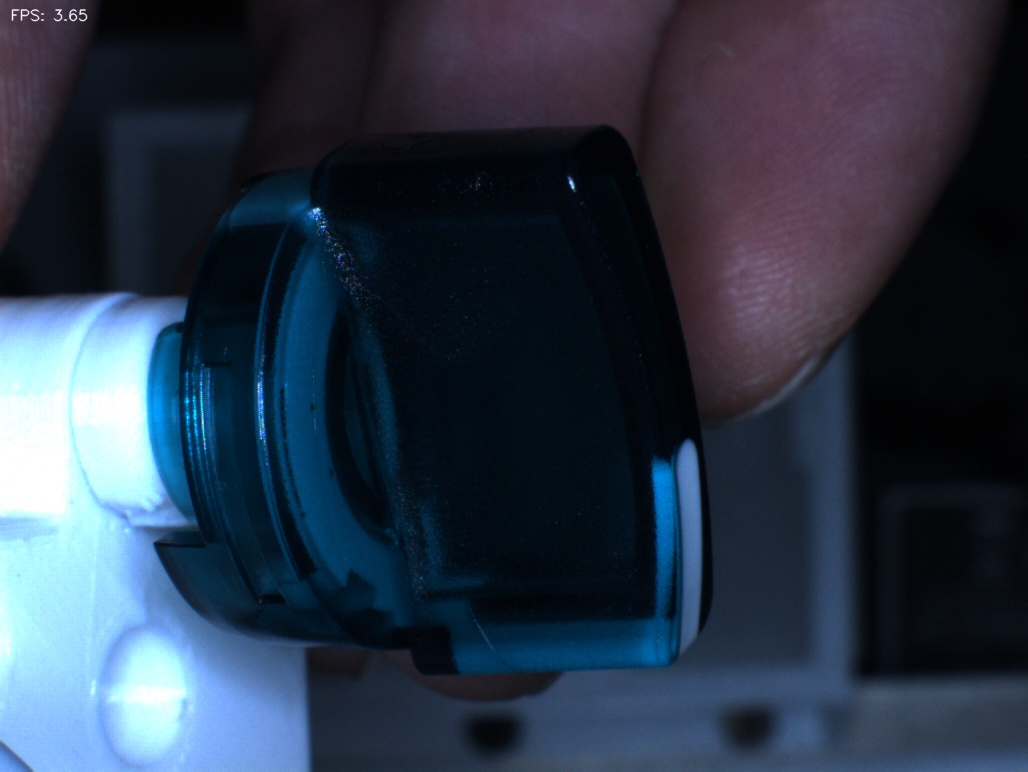PointNoir: (279, 364, 356, 438)
